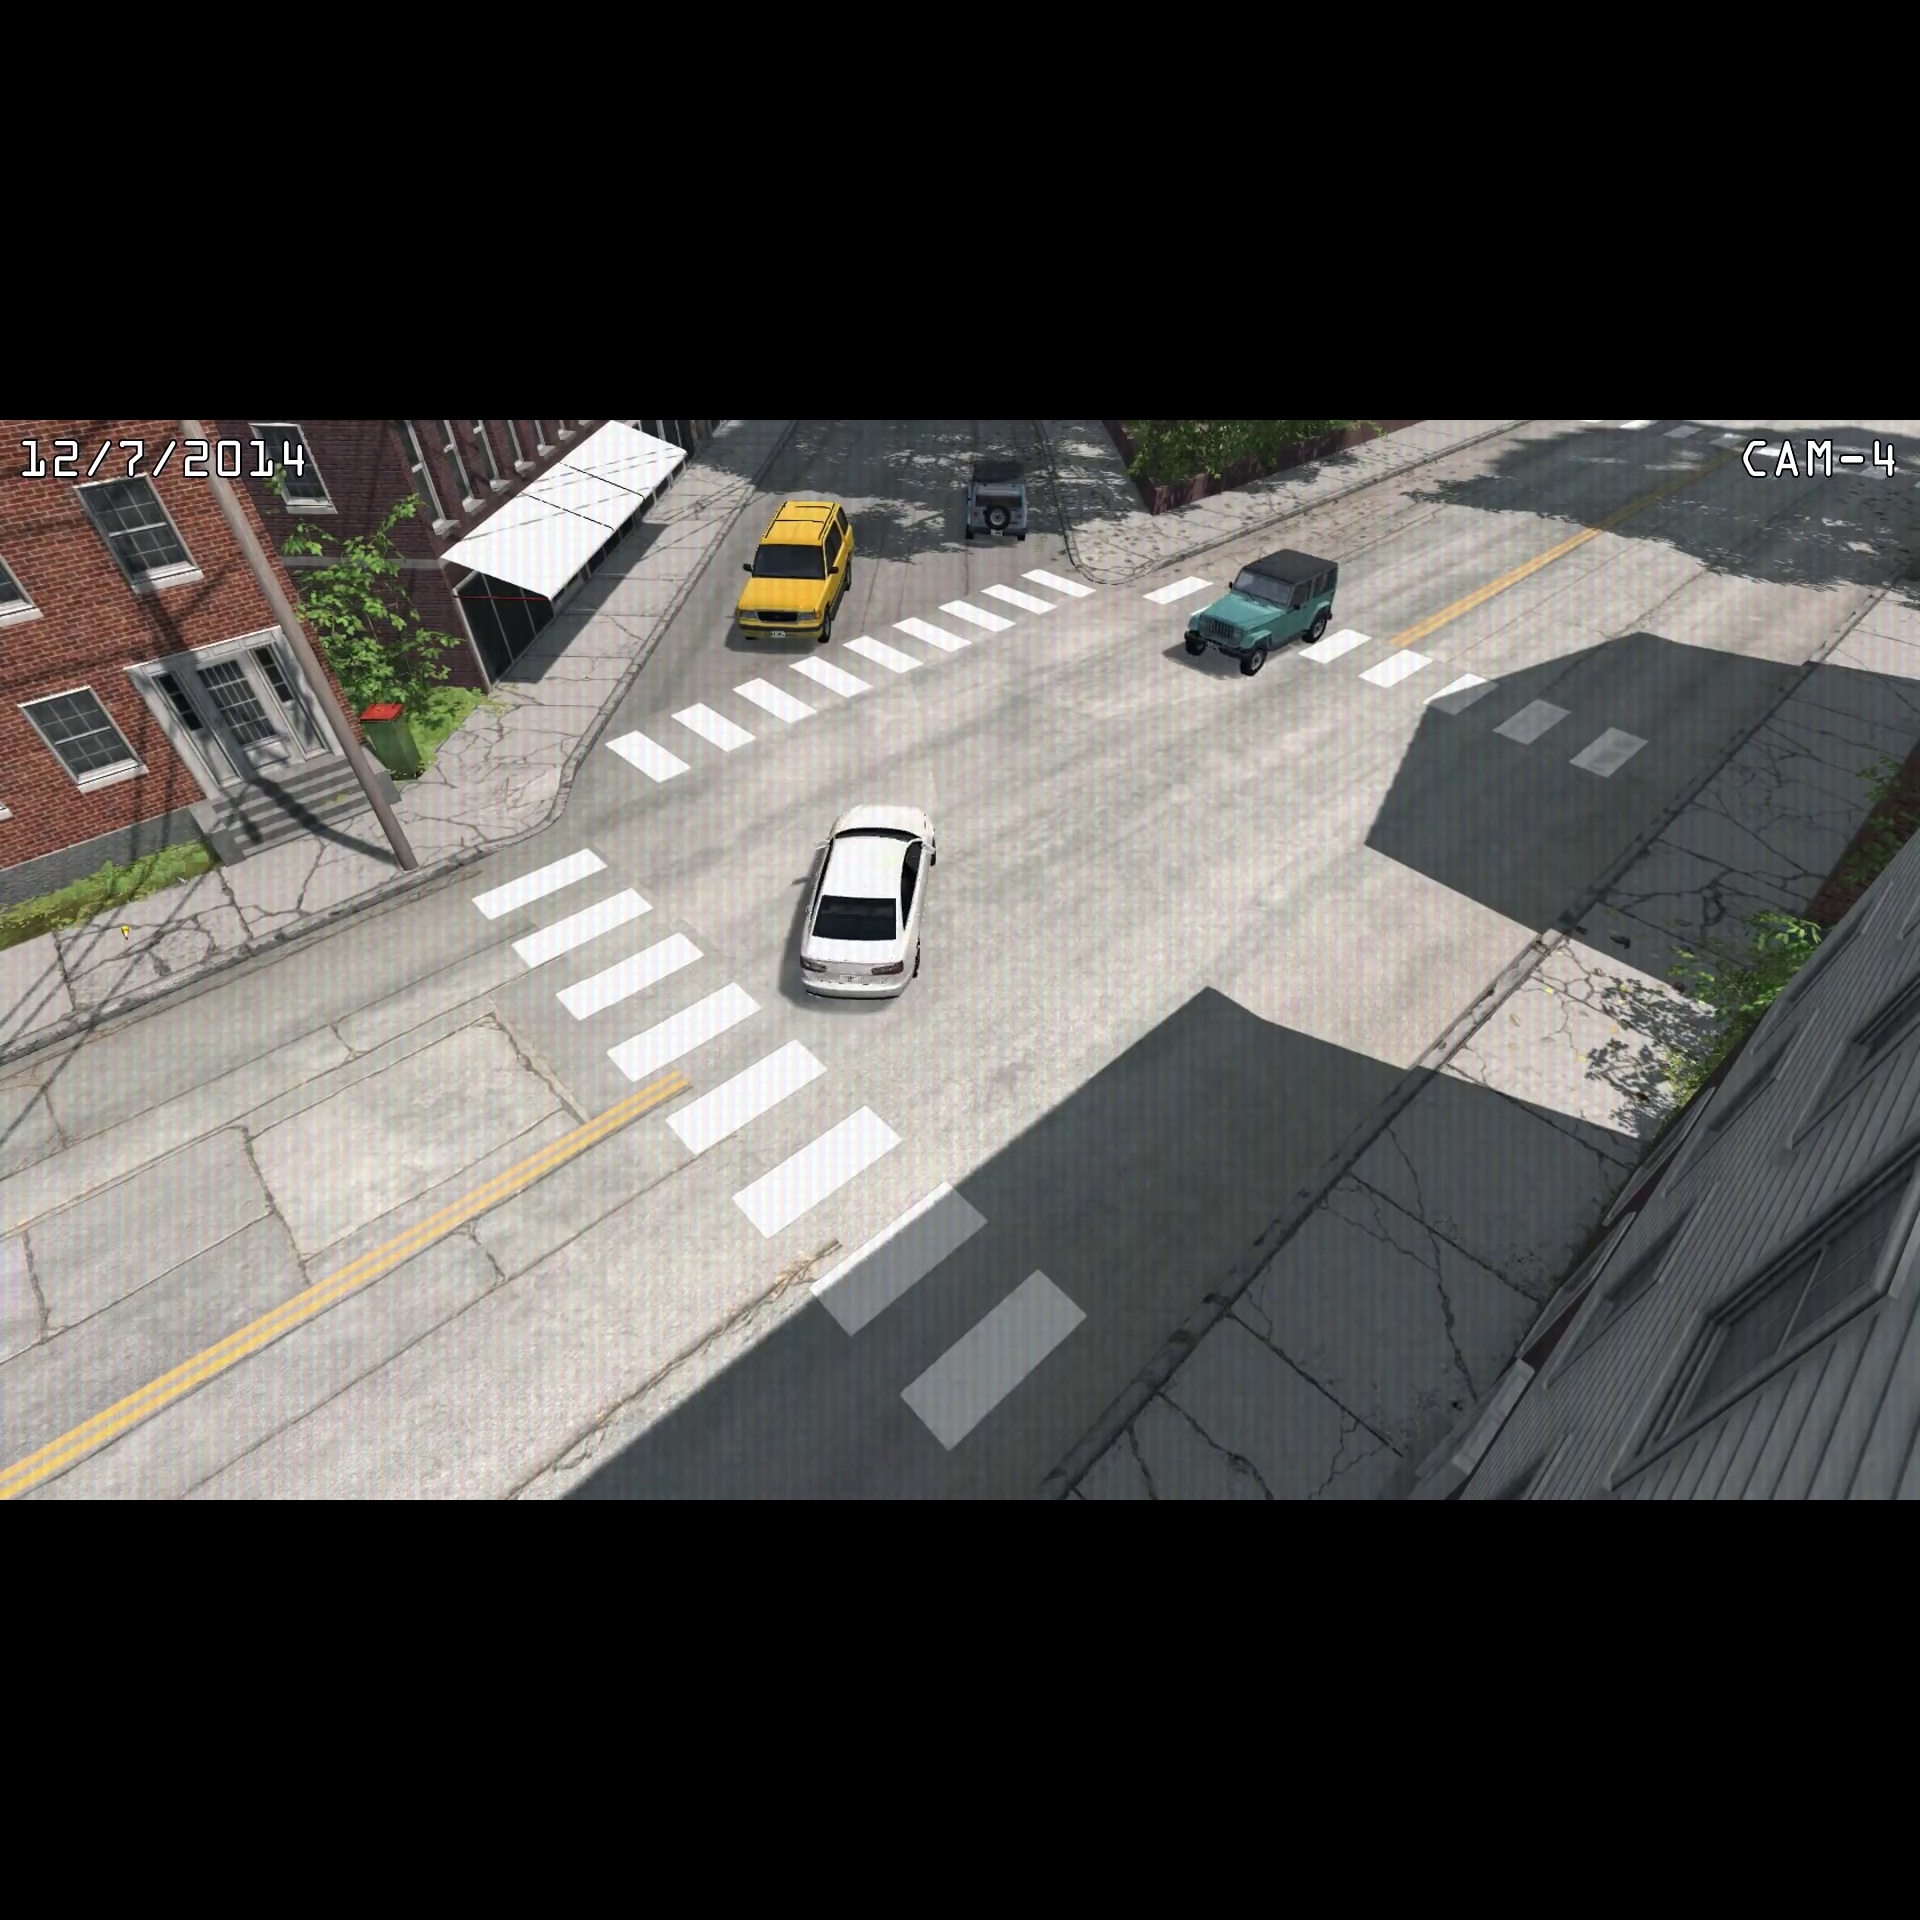vehicle: (784, 789, 942, 1016), (1178, 542, 1347, 680), (723, 492, 860, 652), (955, 448, 1036, 550)
